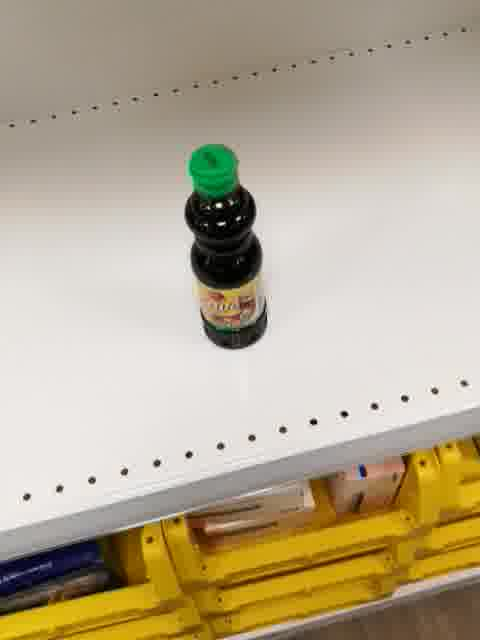cookingoil: (181, 140, 269, 351)
